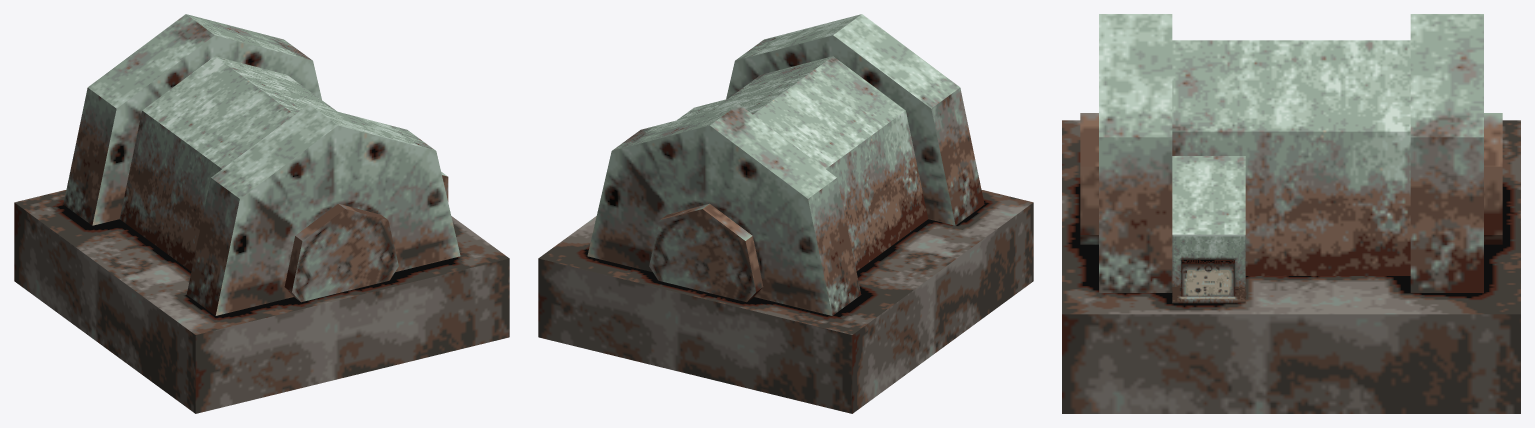
The model's file is Turbine.obj.
3 renders of one model, left to right at view 1: azimuth 30°, elevation 25°; view 2: azimuth 150°, elevation 25°; view 3: azimuth 270°, elevation 25°, orthographic. The views are drawn at different scales.
Visible parts, largest first — view 1: Turbine; view 2: Turbine; view 3: Turbine.
Boxes of the visible parts, left/top/right/bottom form: Turbine: left=14, top=14, right=509, bottom=413; Turbine: left=538, top=14, right=1033, bottom=413; Turbine: left=1062, top=14, right=1520, bottom=413.
Size of the model in its own units: 2.5 by 1.82 by 2.5.
1 material, 1 textured.
